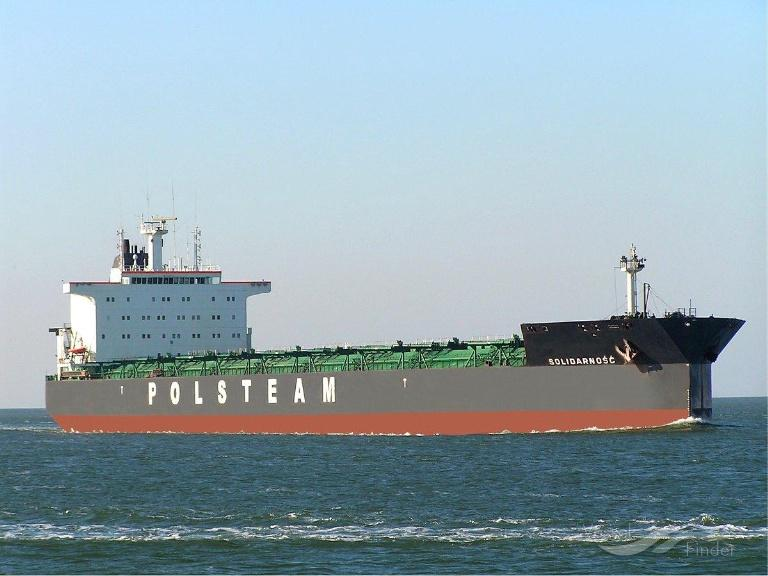OCR: (143, 372, 343, 414), (542, 352, 622, 368)
